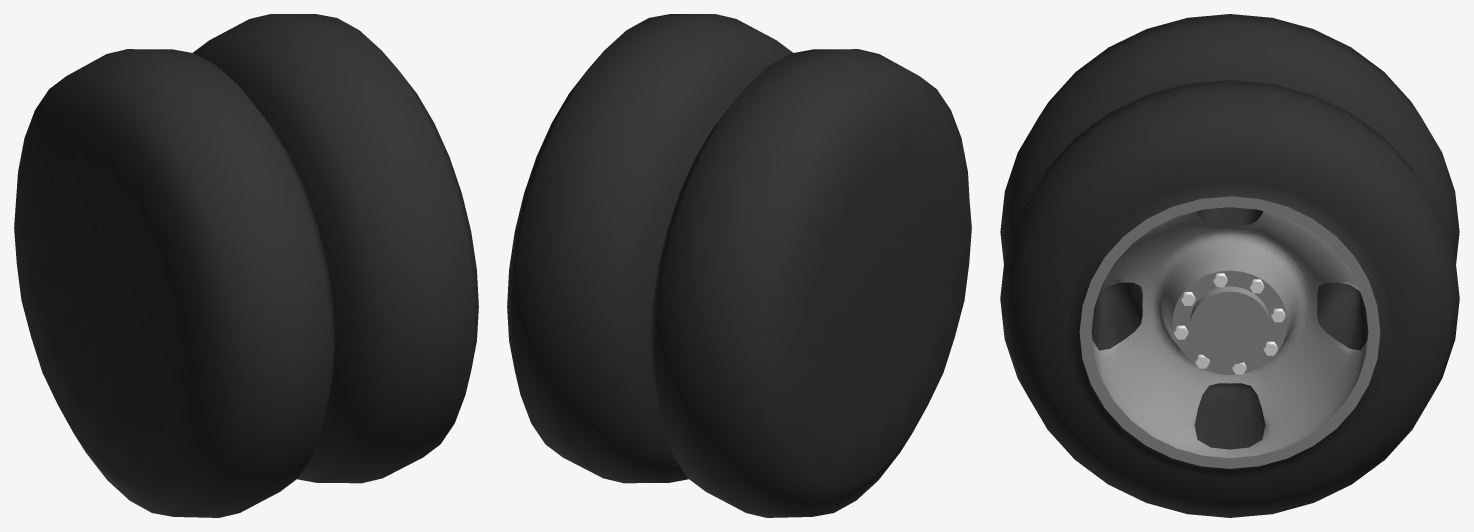
Rendered from modTruckRearWheel.fbx.
3 renders of one model, left to right at view 1: azimuth 30°, elevation 25°; view 2: azimuth 150°, elevation 25°; view 3: azimuth 270°, elevation 25°, orthographic. The views are drawn at different scales.
Parts seen in each view (by area): view 1: modTruckRearWheel; view 2: modTruckRearWheel; view 3: modTruckRearWheel.
Part boxes in pixels (x1,y1,x2,y2): modTruckRearWheel: [14, 14, 478, 517]; modTruckRearWheel: [507, 14, 971, 517]; modTruckRearWheel: [1000, 14, 1459, 517].
Size of the model in its own units: 0.9196 by 1.36 by 1.36.
